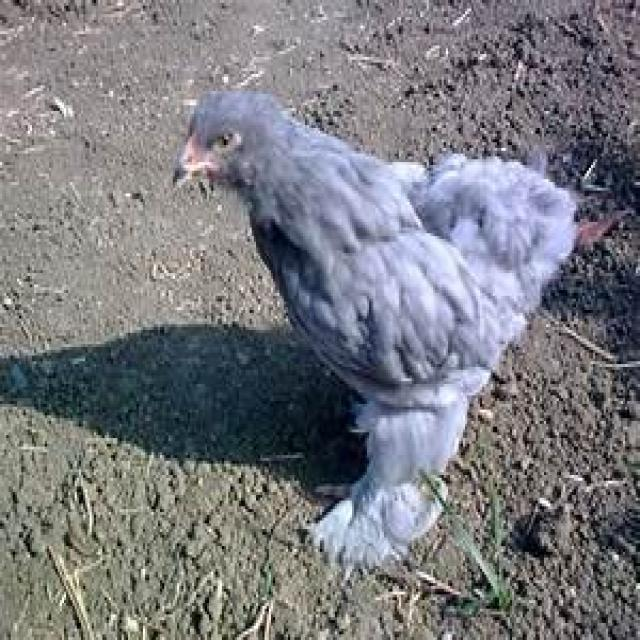chicken: (171, 85, 580, 580)
